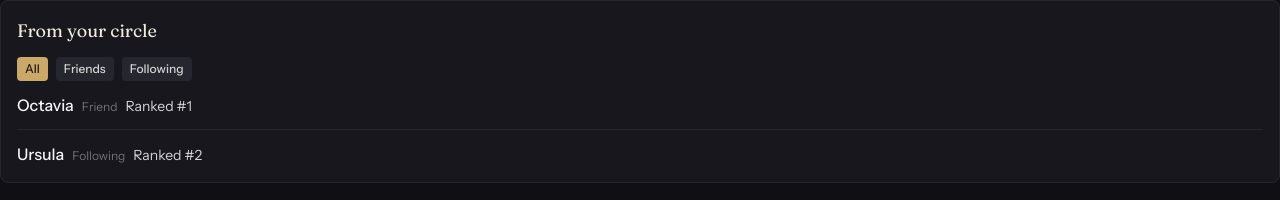
SocialContext › shows the relationship filter only when both kinds are present and filters its rows
Expected: the button "All" is shown, [17, 57, 48, 81]
Click the button "Friends" at [85, 69], box [56, 57, 114, 81]
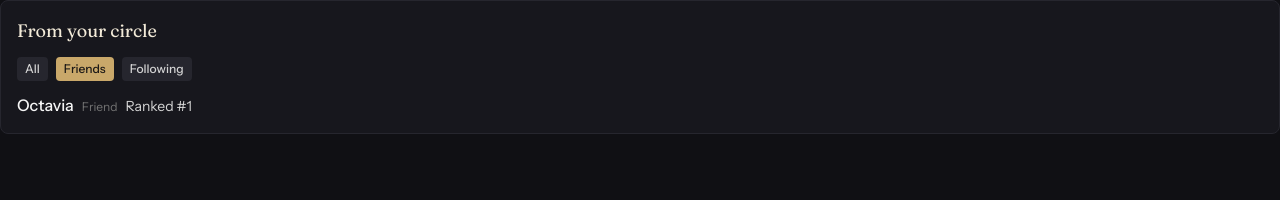
Expected: the link "Octavia" is shown, [17, 93, 74, 117]
Now the link "Ursula" is gone
Click the button "Following" at [157, 69], box [122, 57, 192, 81]
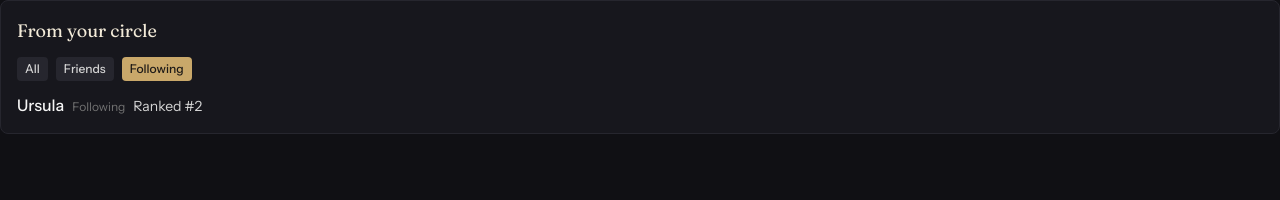
Now the link "Octavia" is gone
Now the link "Ursula" is shown, box [17, 93, 64, 117]
